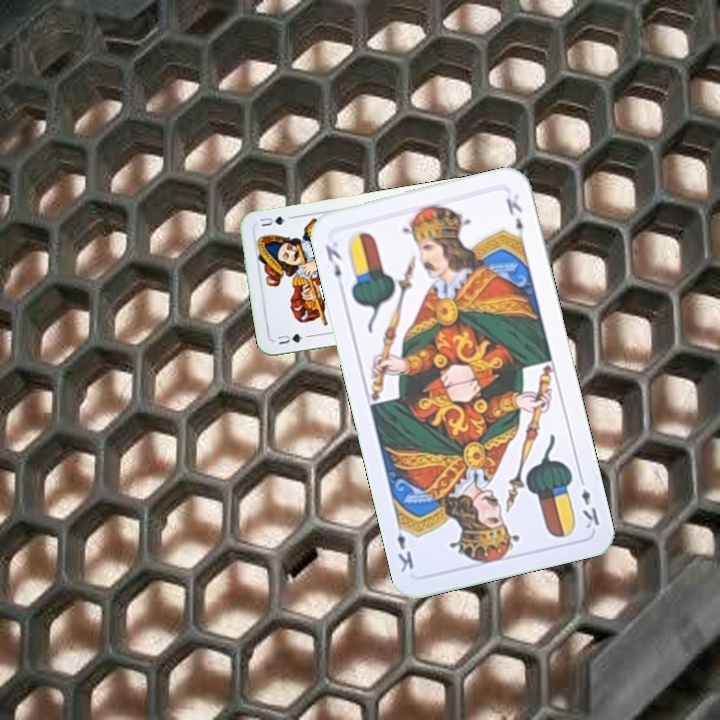EK: (575, 472, 602, 531), (321, 241, 344, 281)
GU: (273, 329, 312, 347)
